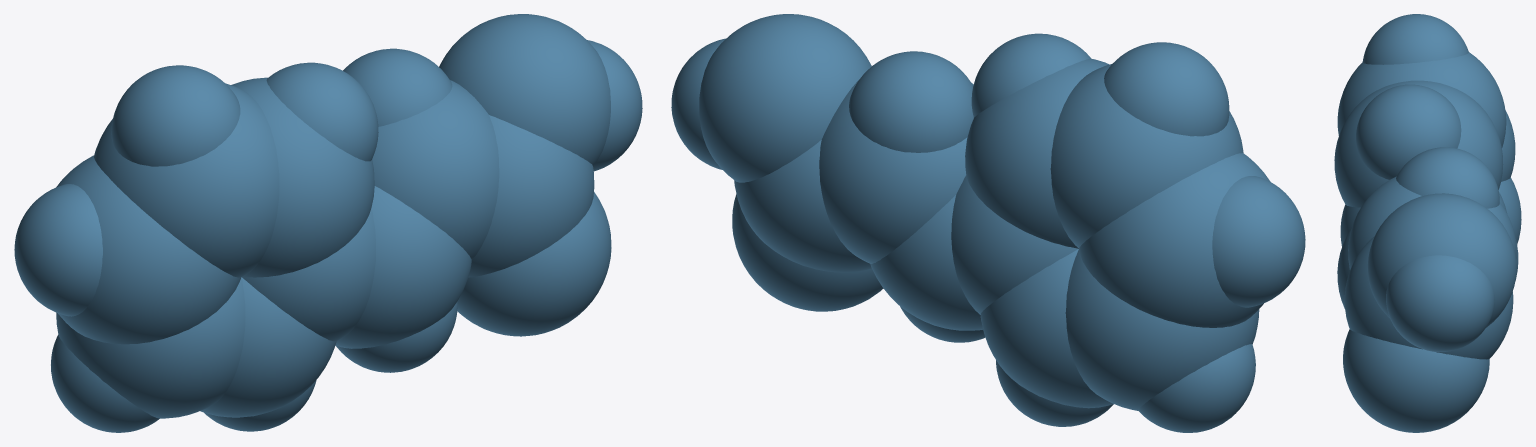
File: 444539-CPK-print_NIH3D.glb
3 views of the same model, side by side, from view 1: azimuth 30°, elevation 25°; view 2: azimuth 150°, elevation 25°; view 3: azimuth 270°, elevation 25° (orthographic). The views are drawn at different scales.
Visible parts, largest first — view 1: atoms; view 2: atoms; view 3: atoms.
Part boxes in pixels (x1=…): atoms: x1=14, y1=14, x2=642, y2=432; atoms: x1=671, y1=14, x2=1305, y2=432; atoms: x1=1334, y1=14, x2=1521, y2=432.
Bounding box in the file's own units: 11.5 × 6.88 × 3.77.
